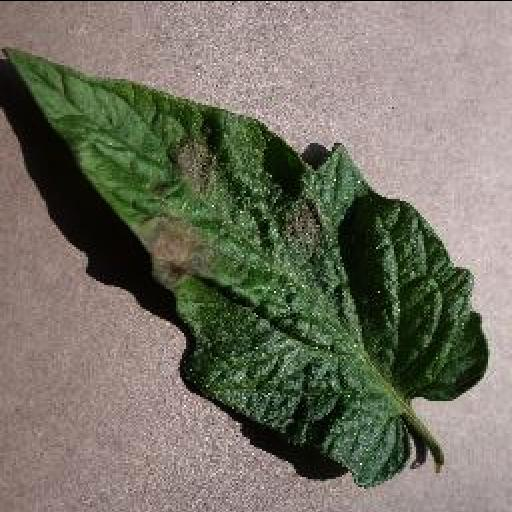disease_tomato: (4, 48, 488, 494)
